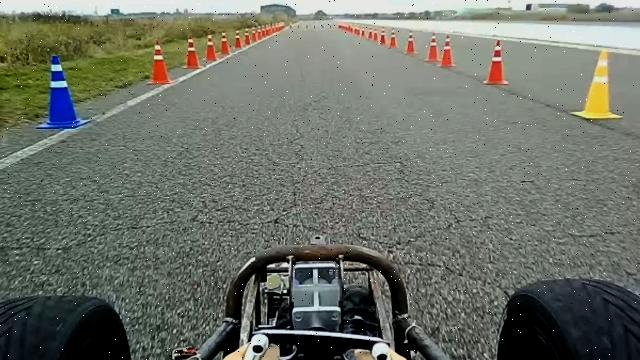blue cone: (35, 54, 89, 129)
red cone: (146, 40, 173, 85), (482, 40, 508, 86), (181, 33, 204, 69), (439, 34, 456, 68), (424, 32, 440, 62), (204, 33, 218, 62), (404, 30, 417, 55), (219, 31, 230, 55), (387, 27, 398, 49), (234, 30, 242, 49), (379, 27, 387, 45), (243, 31, 250, 45)
yellow cone: (570, 48, 623, 120)
